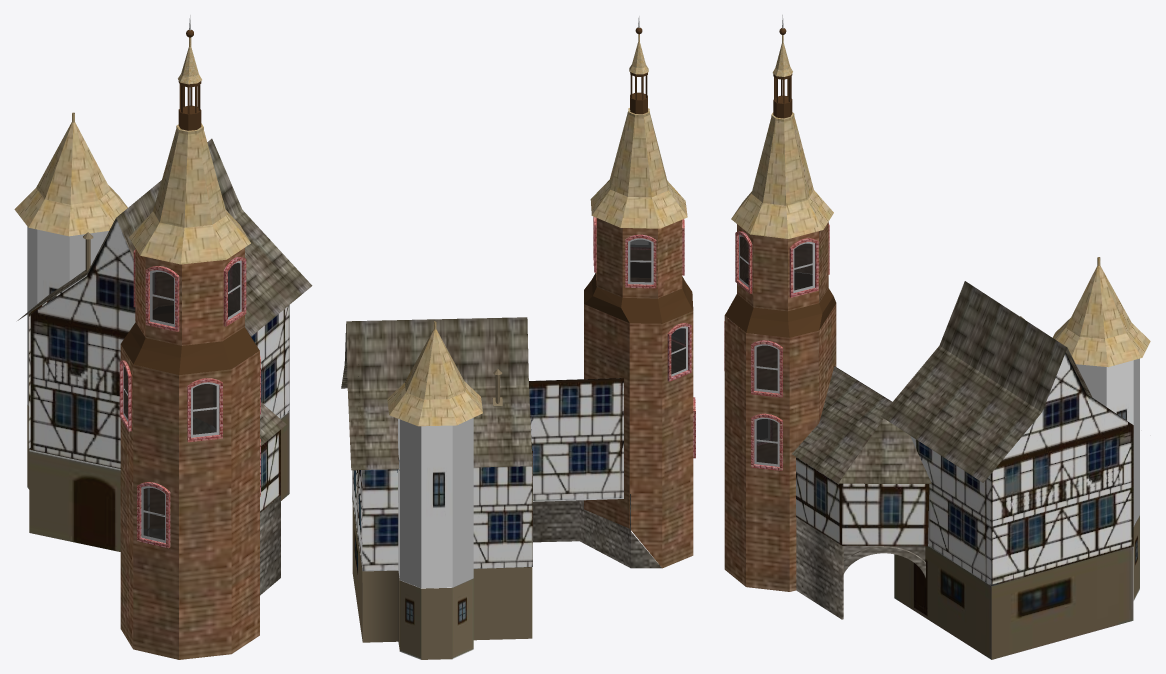
Rendered from fort.fbx.
The picture shows the model from 3 angles, left to right: view 1: azimuth 30°, elevation 25°; view 2: azimuth 150°, elevation 25°; view 3: azimuth 270°, elevation 25°; orthographic projection. The views are drawn at different scales.
Visible parts, largest first — view 1: cihlova_zed, barak, strecha_svetla, strecha_hneda, vezicka, Okna, skla, bila_stena, podstena, okenice; view 2: barak, cihlova_zed, strecha_hneda, strecha_svetla, bila_stena, podstena, vezicka, Okna, skla, okenice; view 3: barak, strecha_hneda, cihlova_zed, strecha_svetla, podstena, vezicka, skla, Okna, bila_stena, okenice.
Part boxes in pixels (left/top/right/bottom): cihlova_zed: left=120, top=248, right=259, bottom=659; barak: left=27, top=220, right=289, bottom=551; strecha_svetla: left=14, top=37, right=250, bottom=264; strecha_hneda: left=17, top=138, right=312, bottom=445; vezicka: left=120, top=15, right=259, bottom=375; Okna: left=119, top=249, right=260, bottom=548; skla: left=124, top=263, right=240, bottom=540; bila_stena: left=27, top=226, right=108, bottom=405; podstena: left=144, top=495, right=280, bottom=595; okenice: left=123, top=260, right=241, bottom=543; barak: left=352, top=376, right=623, bottom=659; cihlova_zed: left=584, top=218, right=693, bottom=568; strecha_hneda: left=341, top=317, right=619, bottom=470; strecha_svetla: left=387, top=34, right=687, bottom=426; bila_stena: left=400, top=418, right=473, bottom=587; podstena: left=533, top=494, right=661, bottom=568; vezicka: left=584, top=16, right=693, bottom=323; Okna: left=593, top=216, right=695, bottom=458; skla: left=630, top=239, right=685, bottom=374; okenice: left=628, top=238, right=687, bottom=376; barak: left=796, top=289, right=1139, bottom=659; strecha_hneda: left=792, top=281, right=1092, bottom=483; cihlova_zed: left=724, top=222, right=836, bottom=591; strecha_svetla: left=731, top=35, right=1150, bottom=367; podstena: left=796, top=517, right=925, bottom=619; vezicka: left=725, top=15, right=836, bottom=337; skla: left=732, top=236, right=812, bottom=464; Okna: left=724, top=223, right=829, bottom=470; bila_stena: left=928, top=358, right=1139, bottom=546; okenice: left=739, top=234, right=814, bottom=466.
Size of the model in its own units: 84.07 by 168 by 118.
